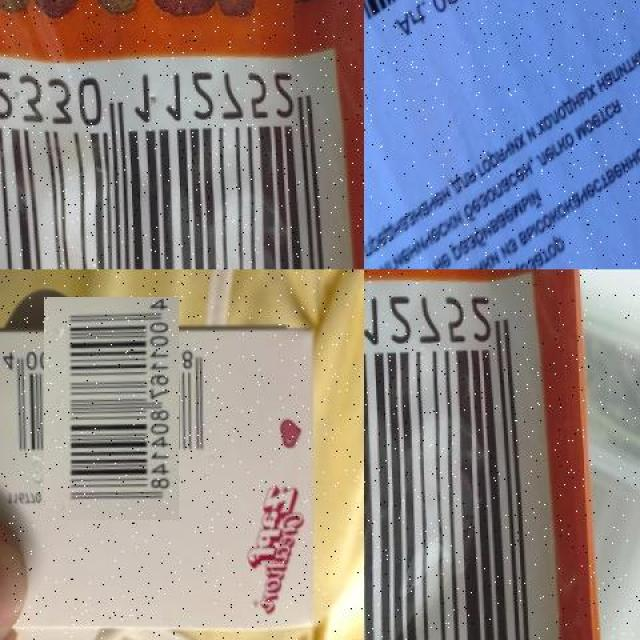Barcode: (0, 43, 364, 269), (364, 269, 563, 640), (22, 319, 202, 498), (363, 0, 529, 142)
